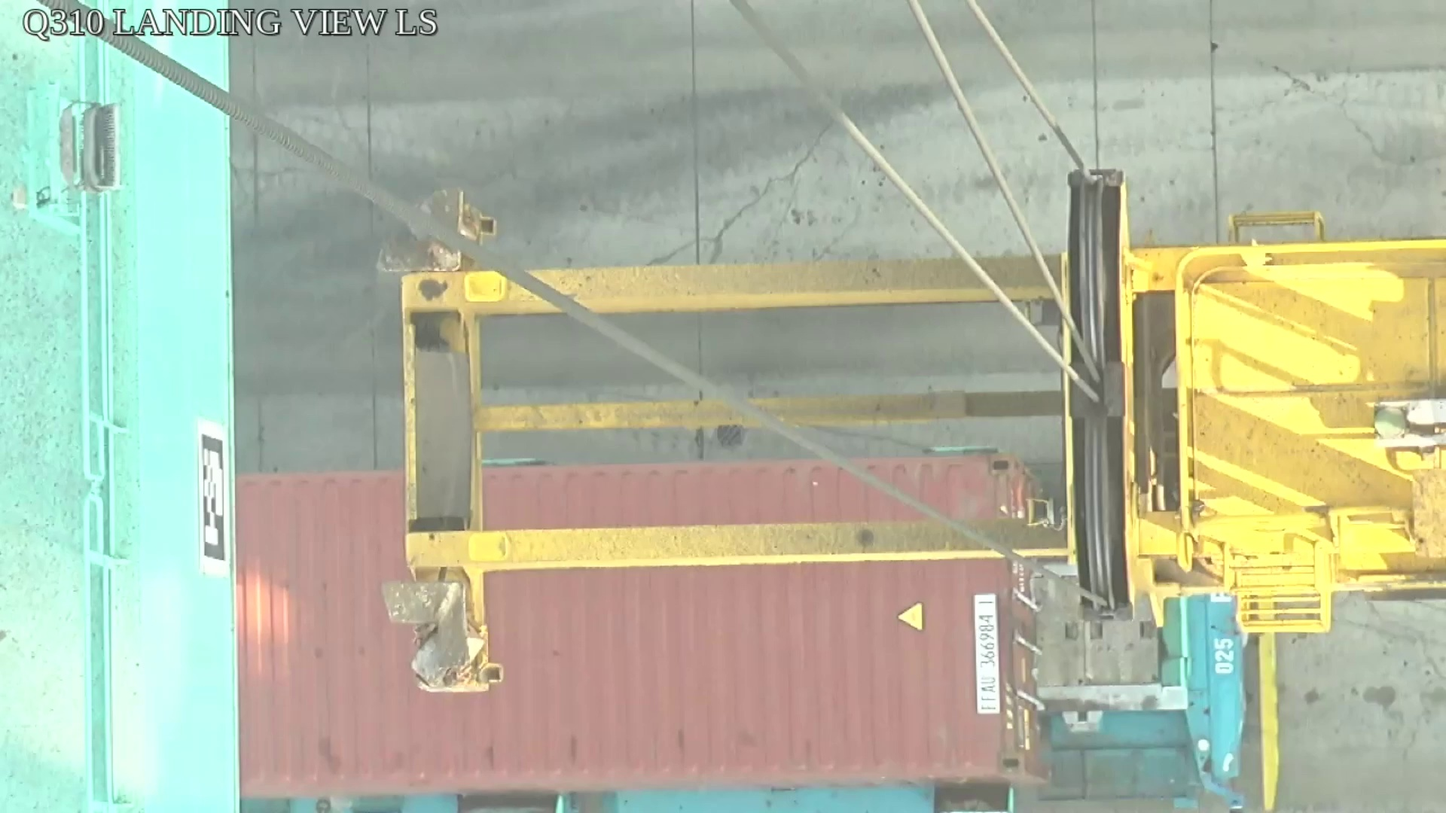aa: (1066, 166, 1137, 623)
